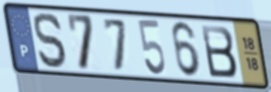5: (136, 18, 167, 77)
6: (170, 19, 203, 80)
7: (66, 11, 98, 73), (101, 17, 129, 73)
B: (199, 22, 239, 79)
S: (32, 11, 70, 71)
